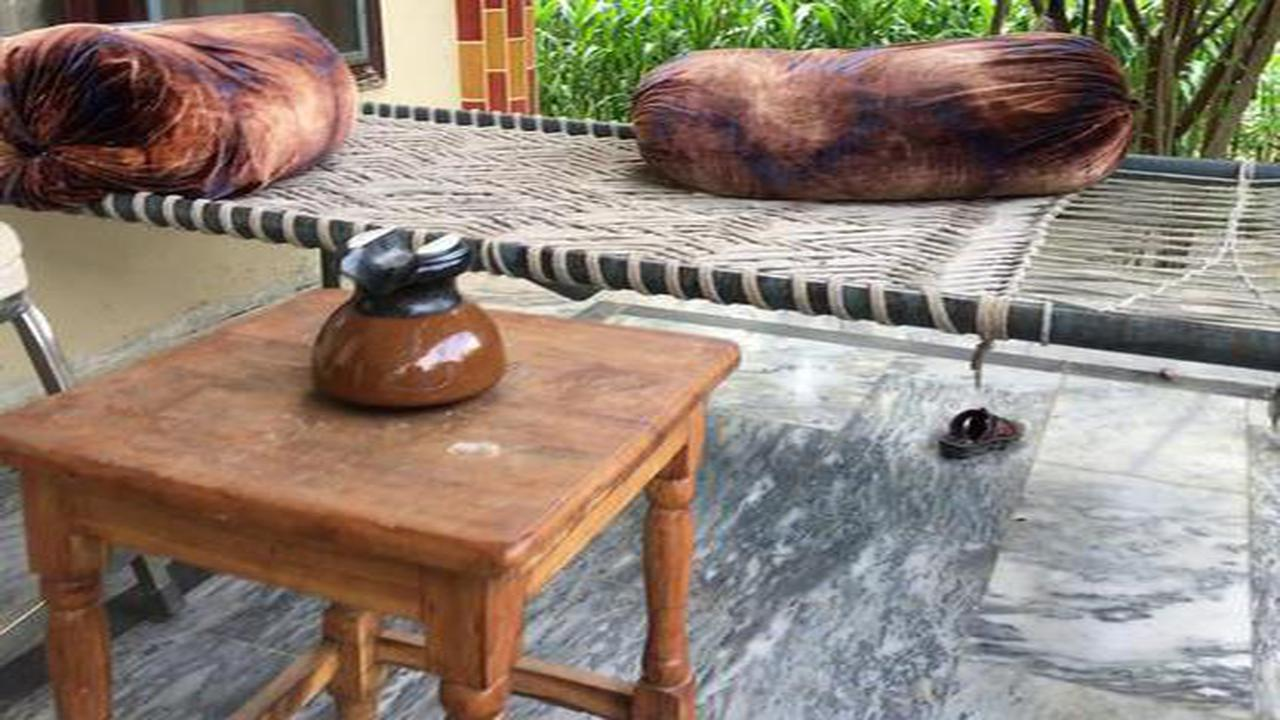insulator_pin: (296, 213, 521, 418)
